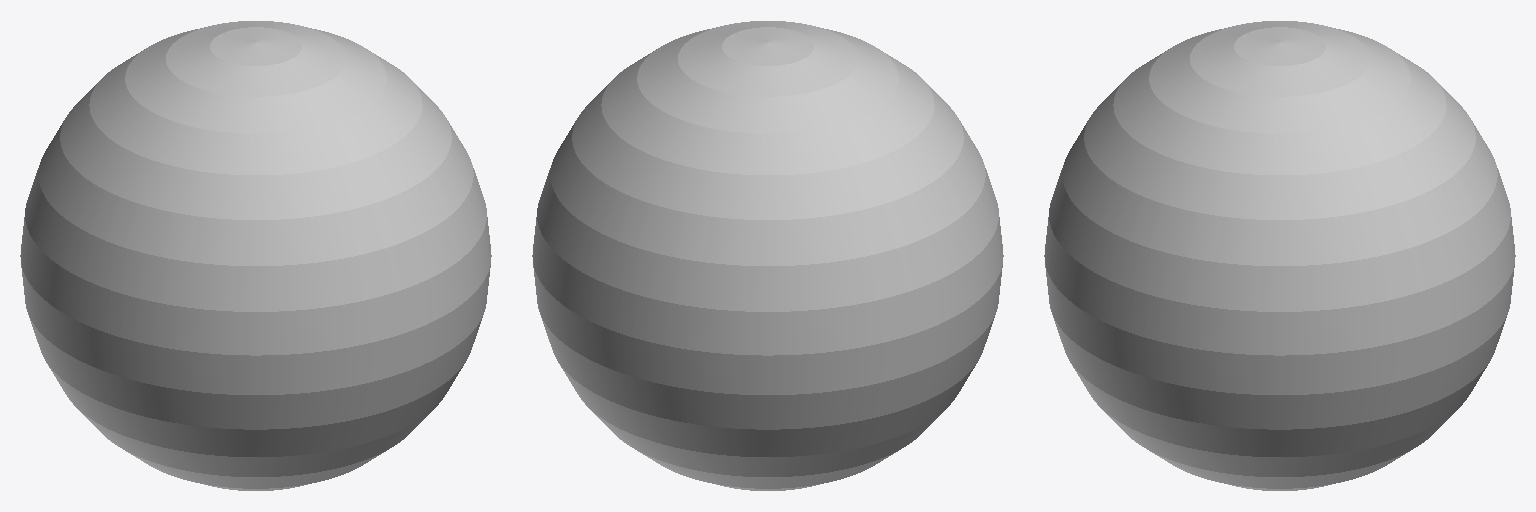
The model's file is smootRedSphere.obj.
The picture shows the model from 3 angles: view 1: azimuth 30°, elevation 25°; view 2: azimuth 150°, elevation 25°; view 3: azimuth 270°, elevation 25°; orthographic projection.
Parts seen in each view (by area): view 1: Sphere_Sphere.002; view 2: Sphere_Sphere.002; view 3: Sphere_Sphere.002.
Boxes of the visible parts, x1,y1,x2,y2 form: Sphere_Sphere.002: [20, 21, 491, 490]; Sphere_Sphere.002: [532, 21, 1003, 490]; Sphere_Sphere.002: [1044, 21, 1515, 490].
Bounding box in the file's own units: 2 × 2 × 2.